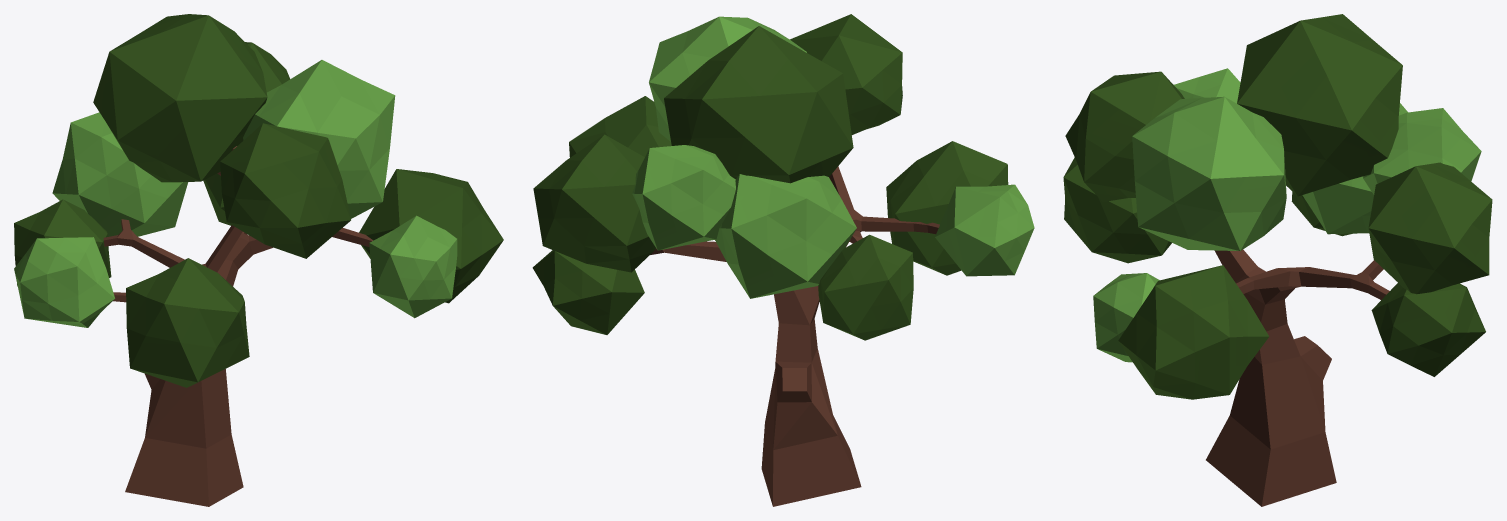
The model's file is tree2.fbx.
3 renders of one model, left to right at view 1: azimuth 30°, elevation 25°; view 2: azimuth 150°, elevation 25°; view 3: azimuth 270°, elevation 25°, orthographic. The views are drawn at different scales.
Visible parts, largest first — view 1: Icosphere.003; view 2: Icosphere.003; view 3: Icosphere.003.
Part boxes in pixels (x1,y1,x2,y2): Icosphere.003: [14, 14, 503, 506]; Icosphere.003: [532, 14, 1034, 506]; Icosphere.003: [1063, 14, 1492, 506].
Size of the model in its own units: 1078 by 1040 by 845.
